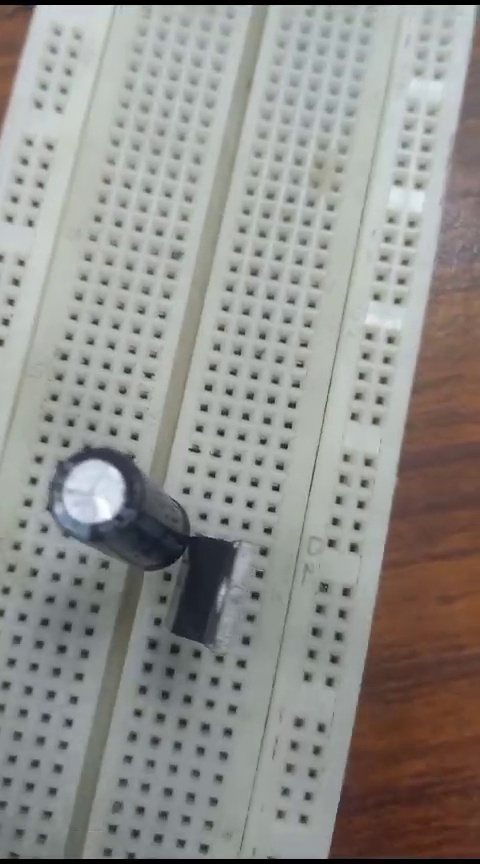capacitor: (43, 443, 191, 571)
voltage regulator: (171, 535, 255, 644)
